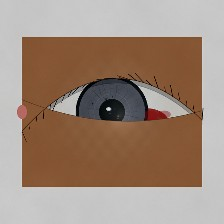hemorrhage_spot: (115, 98, 177, 148)
